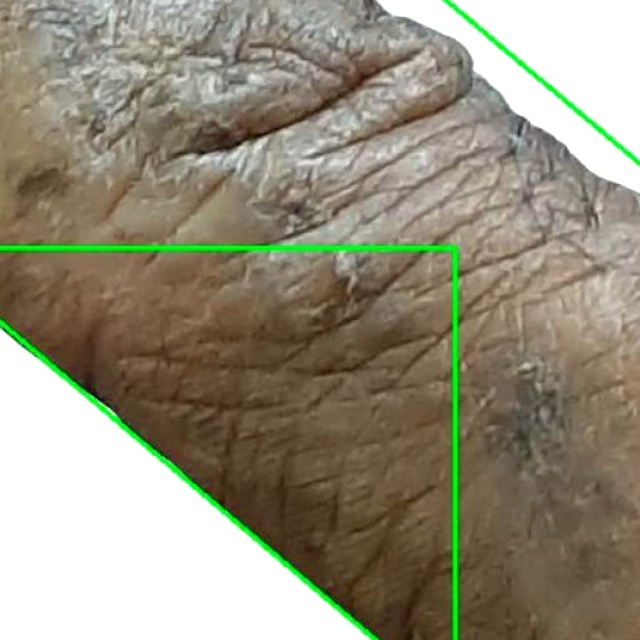Eczema: (0, 0, 639, 639), (0, 247, 455, 639)
